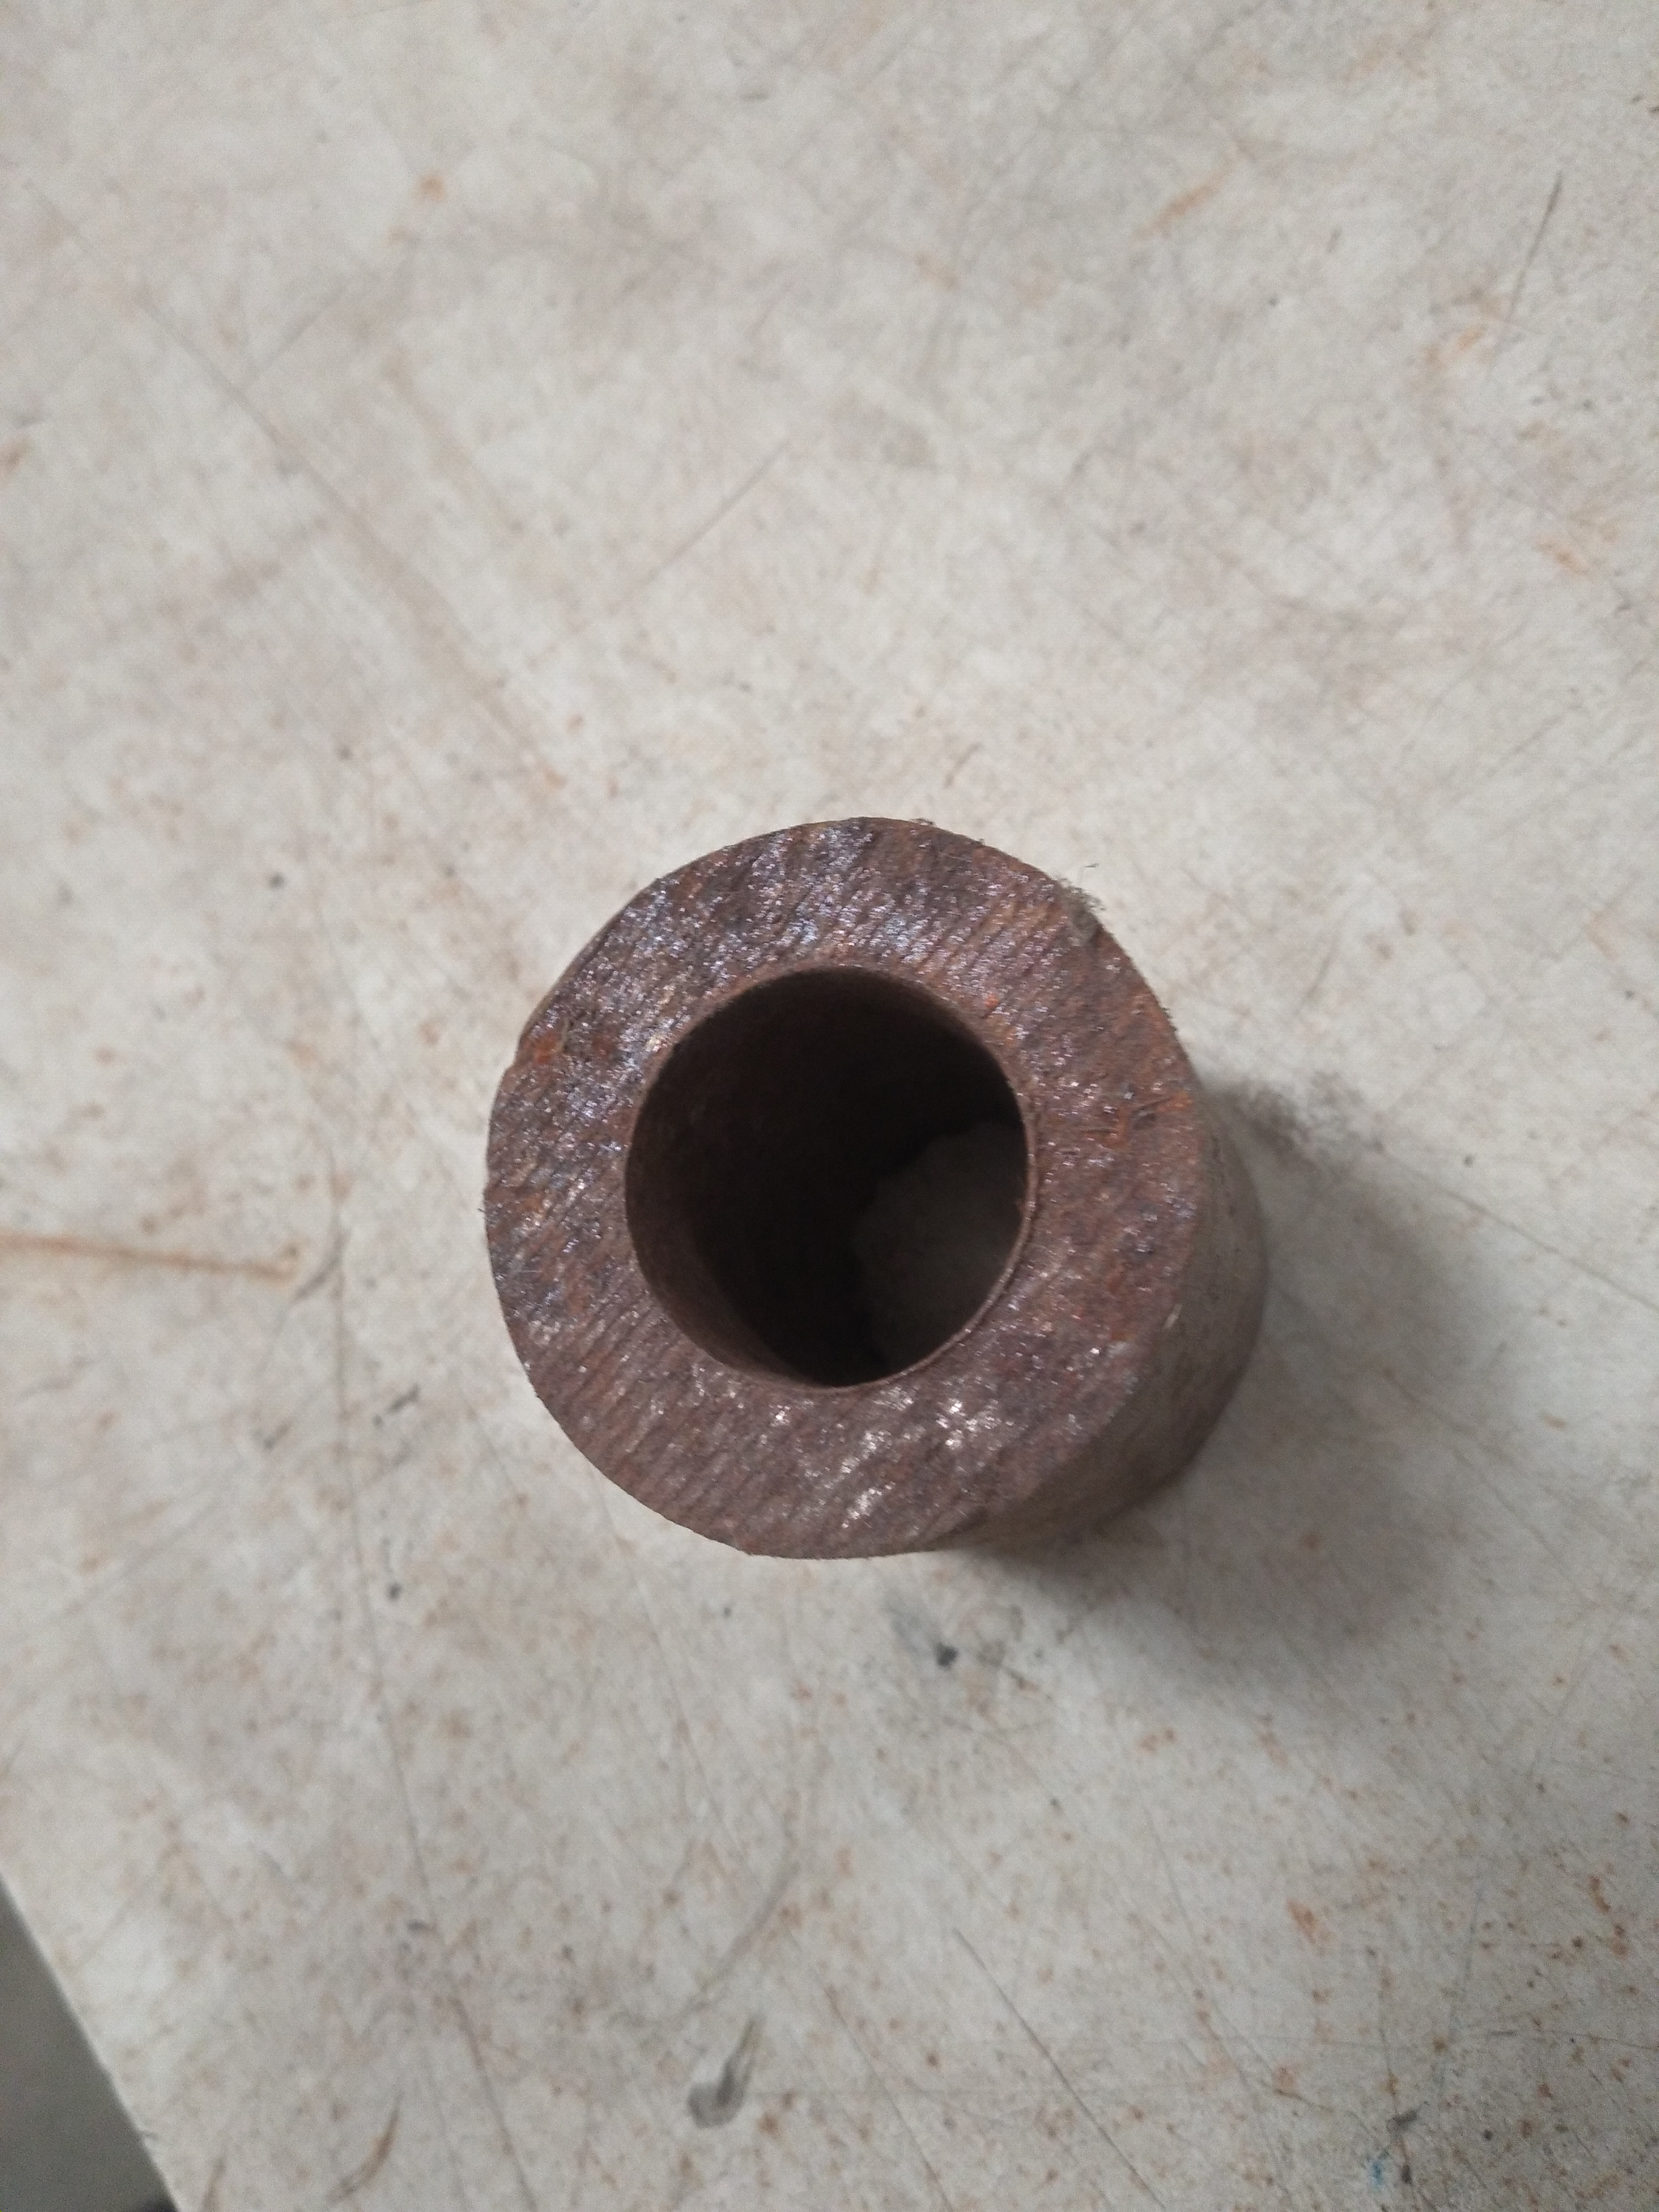No thread: (596, 946, 1084, 1411)
